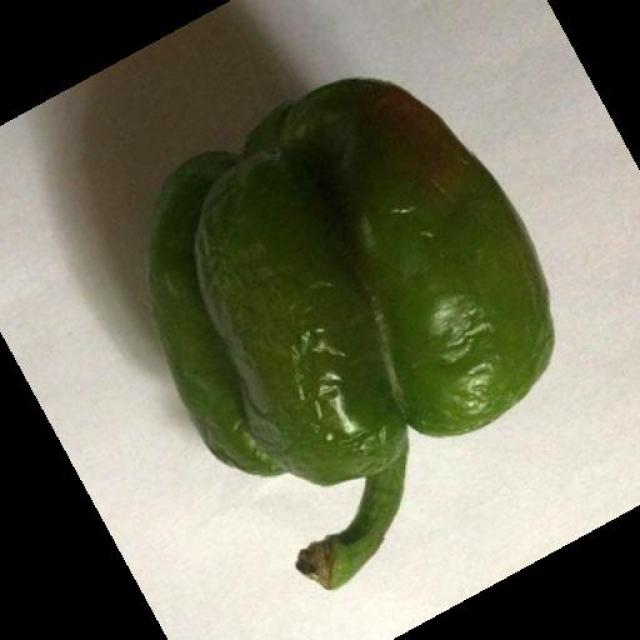Stale_Capsicum: (156, 60, 540, 521)
